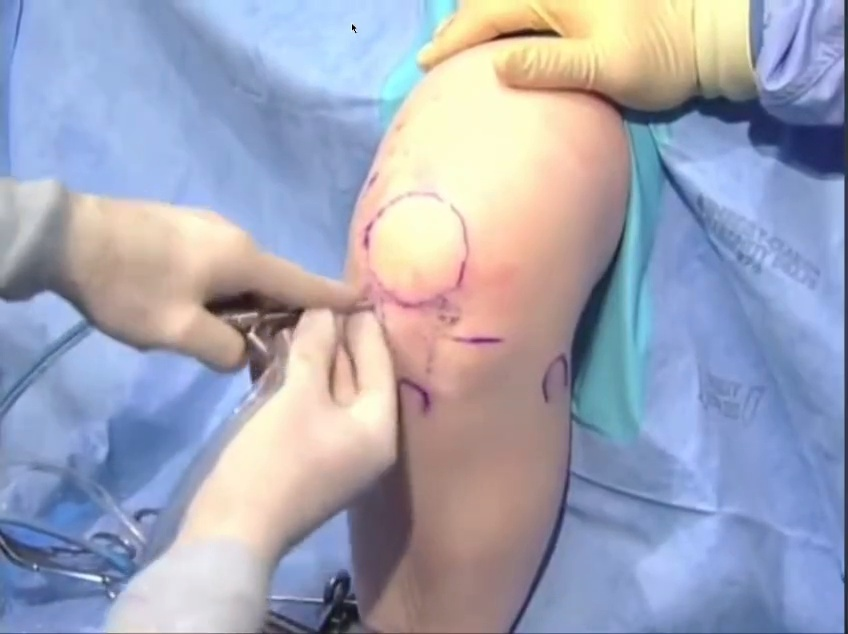arthroscope: (23, 131, 402, 508), (632, 0, 848, 142)
probe: (741, 136, 848, 590), (653, 144, 823, 330)
